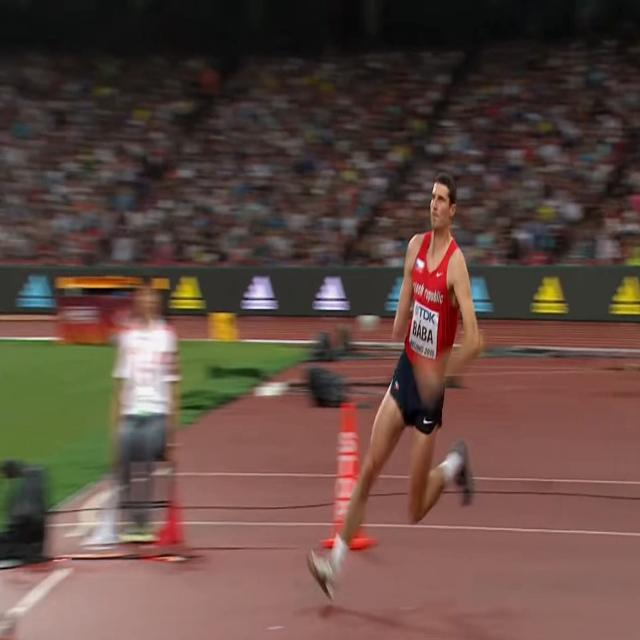run: (306, 173, 482, 606)
